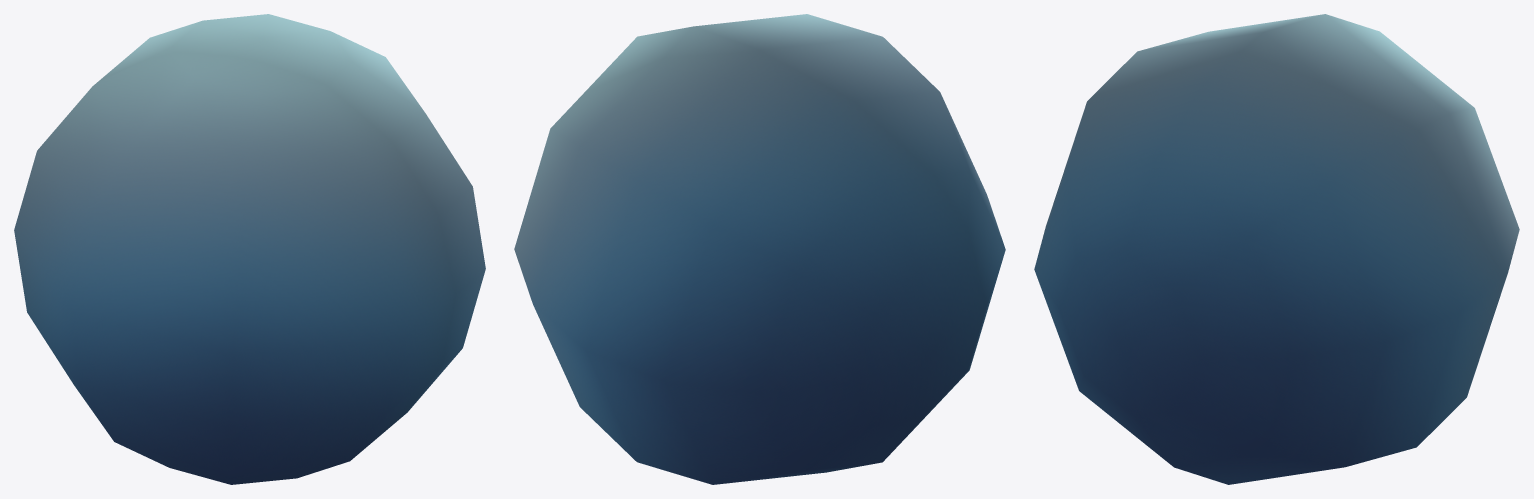
The model's file is sky.glb.
The picture shows the model from 3 angles, left to right: view 1: azimuth 30°, elevation 25°; view 2: azimuth 150°, elevation 25°; view 3: azimuth 270°, elevation 25°; orthographic projection. The views are drawn at different scales.
Parts seen in each view (by area): view 1: New Sky; view 2: New Sky; view 3: New Sky.
Part boxes in pixels (bbox=[...]): New Sky: bbox=[14, 14, 485, 484]; New Sky: bbox=[514, 14, 1005, 484]; New Sky: bbox=[1034, 14, 1519, 484].
Size of the model in its own units: 55.55 by 56.88 by 57.26.
Materials: 1 (1 with a texture image).
